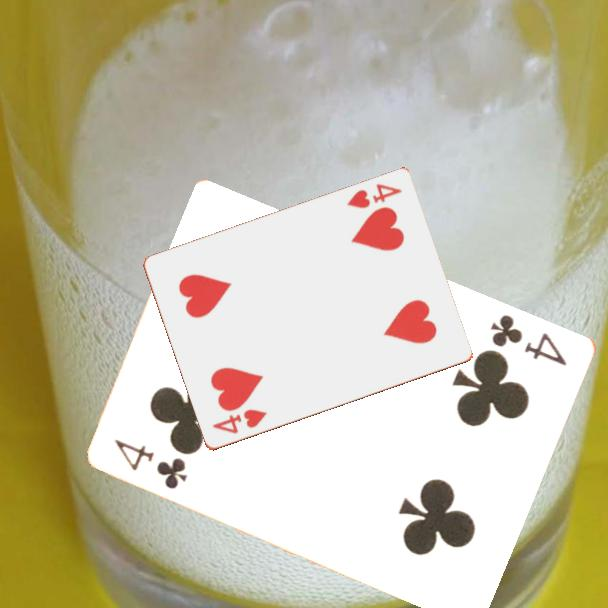c04: (487, 310, 570, 369), (111, 435, 192, 492)
h04: (342, 181, 404, 212), (209, 406, 270, 437)
